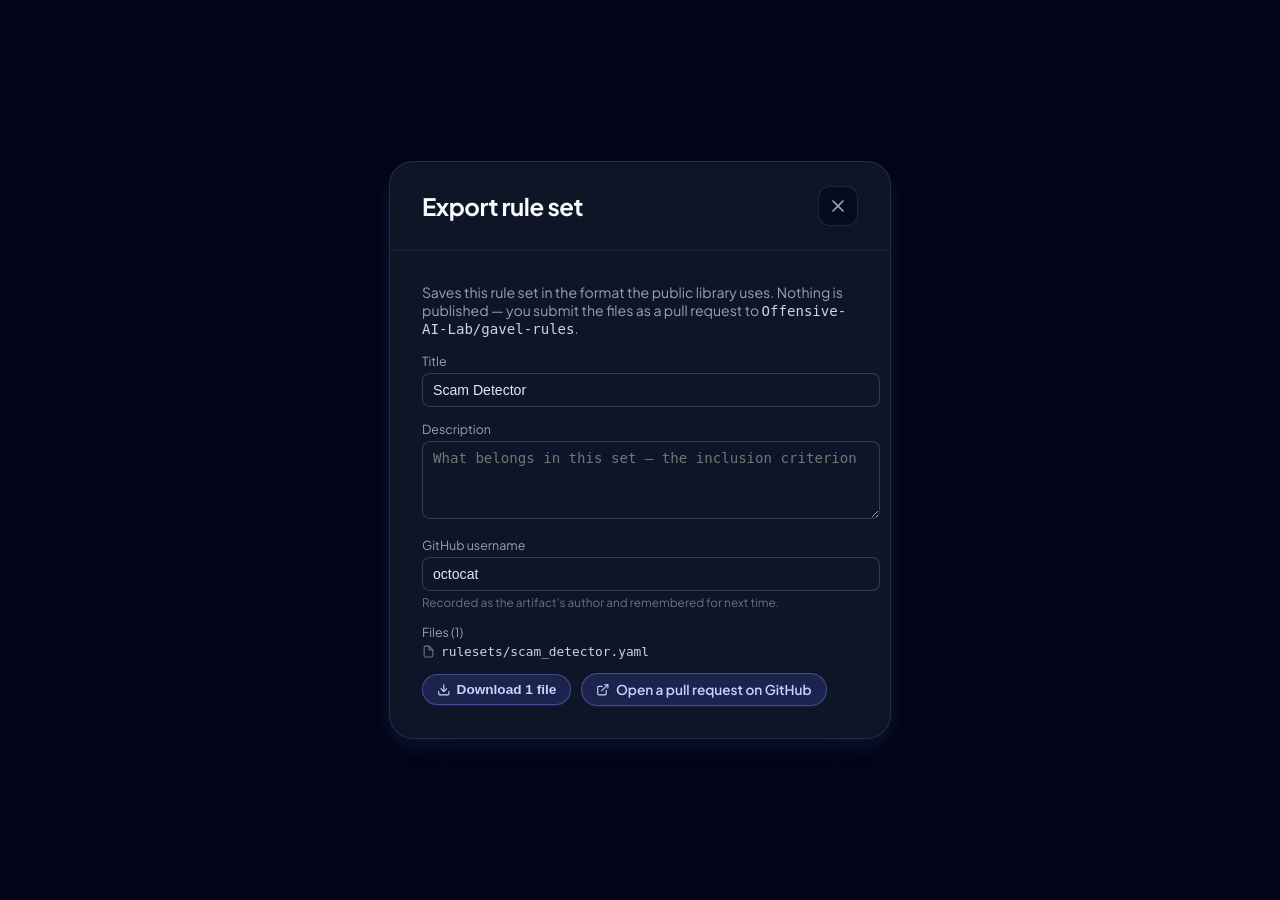
it: ExportToRegistryModal — downloading › reports a download failure instead of claiming success
Click the button "Download 1 file".
click(497, 690)  # box [422,674,571,705]
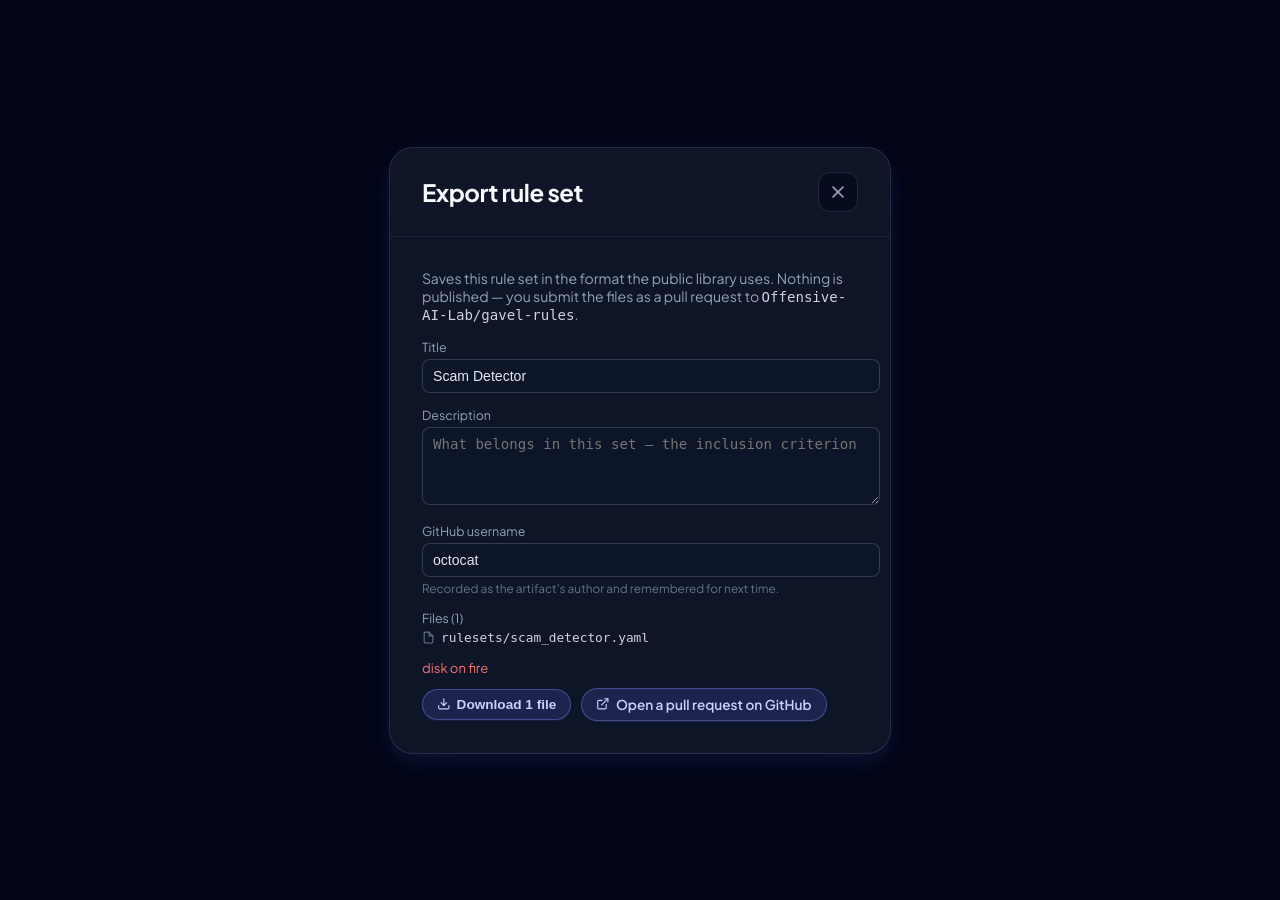
Expected: the text "disk on fire" is shown, [422,658,488,676]
